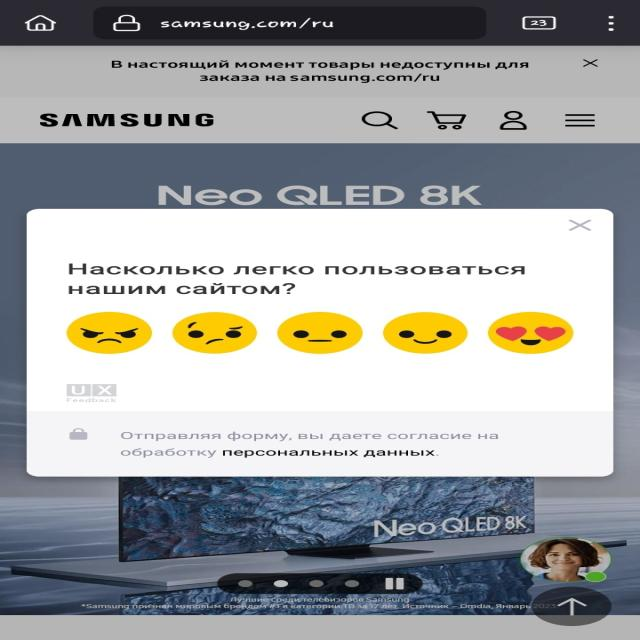button: (564, 216, 598, 233), (576, 57, 608, 71)
site: (23, 211, 611, 477), (0, 46, 640, 98)
